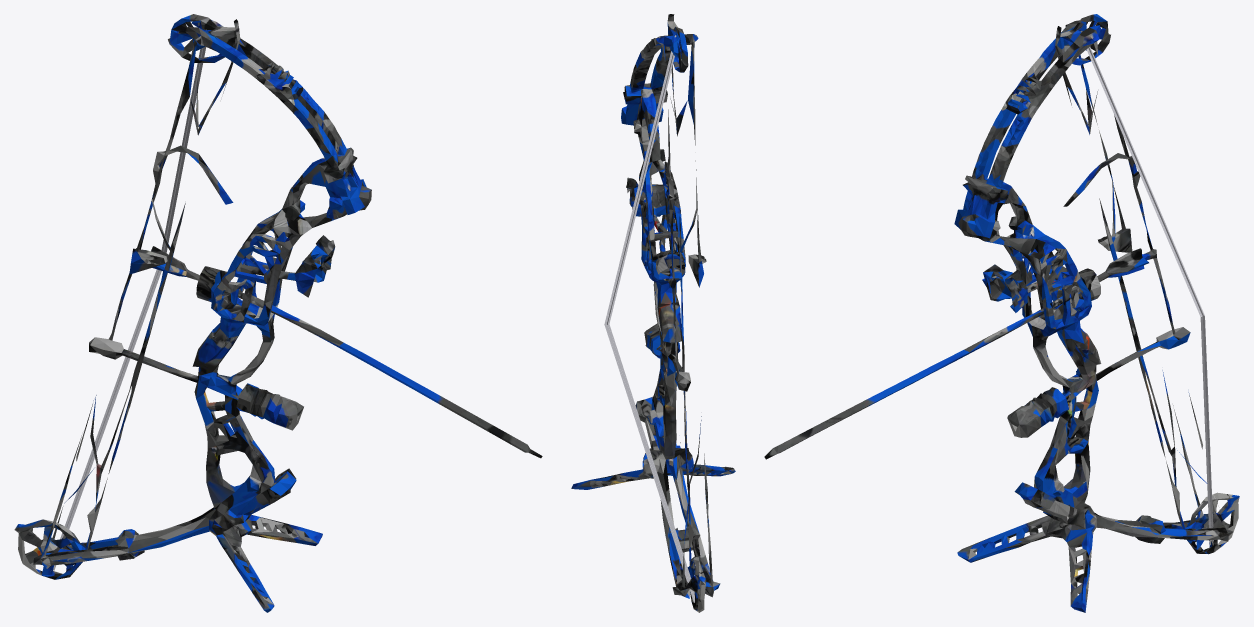
The model's file is compound_bow_pulling_1.obj.
3 renders of one model, left to right at view 1: azimuth 30°, elevation 25°; view 2: azimuth 150°, elevation 25°; view 3: azimuth 270°, elevation 25°, orthographic. The views are drawn at different scales.
Parts seen in each view (by area): view 1: compound_bow; view 2: compound_bow; view 3: compound_bow.
Part boxes in pixels (bbox=[...]): compound_bow: bbox=[14, 14, 542, 612]; compound_bow: bbox=[571, 14, 735, 612]; compound_bow: bbox=[764, 14, 1239, 612].
Size of the model in its own units: 0.4958 by 0.9784 by 0.7304.
